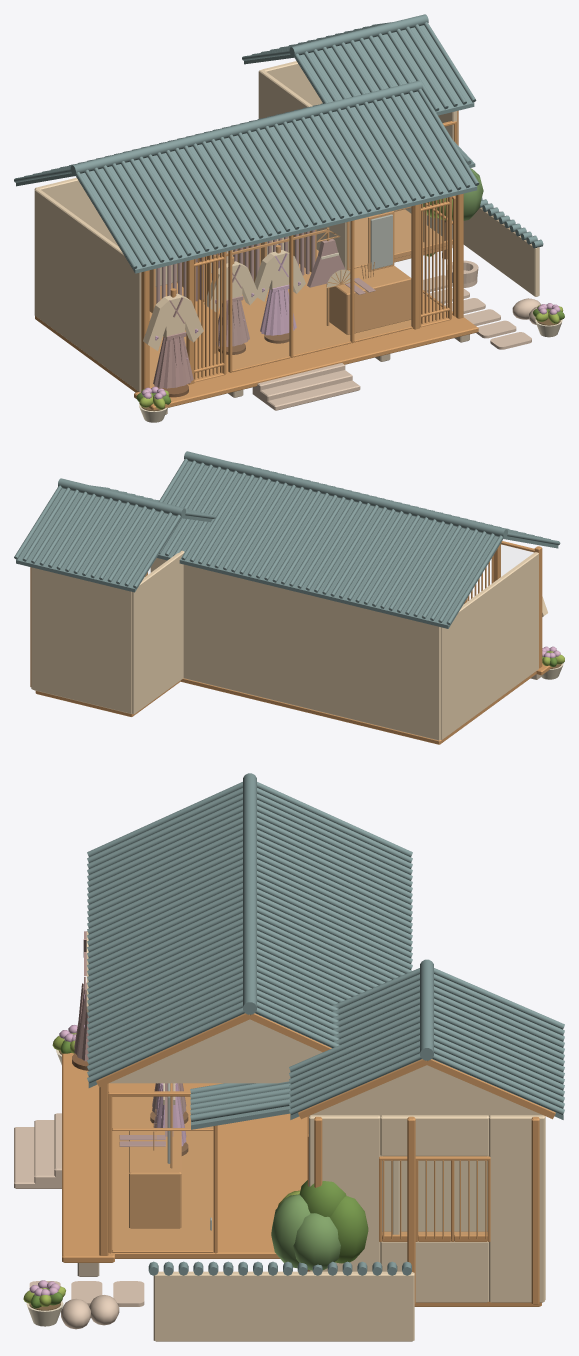
File: 15-B-4acf32bdff2b.glb
3 renders of one model, top to bottom at view 1: azimuth 30°, elevation 25°; view 2: azimuth 150°, elevation 25°; view 3: azimuth 270°, elevation 25°, orthographic. The views are drawn at different scales.
Parts seen in each view (by area): view 1: R 筒瓦, R 连续瓦屋面, A 西墙, S 主厅木地板, S 前木廊, R 屋脊, I 宽袖汉服, A 滑屏细木条, I 镜前配饰柜, A 前廊木柱, L 侧院矮墙, I 汉服长裙 (+19 smaller); view 2: A 主厅后墙, R 筒瓦, R 连续瓦屋面, A 后翼后墙, A 西墙, A 后翼西墙, R 屋脊, S 主厅木地板, A 前廊木柱, S 后翼木地板; view 3: R 筒瓦, S 主厅木地板, L 侧院矮墙, A 后翼东墙段, A 木框山墙填板, S 前木廊, L 乔木 · 枝干与树冠, A 后翼西墙, A 后翼窗下, R 屋脊, I 镜前配饰柜, A 后翼窗上 (+15 smaller).
Boxes of the visible parts, x1,y1,x2,y2 form: R 筒瓦: (14,22,479,269); R 连续瓦屋面: (16,25,477,273); A 西墙: (34,188,141,392); S 主厅木地板: (35,242,454,392); S 前木廊: (134,315,478,410); R 屋脊: (70,14,428,175); I 宽袖汉服: (143,250,305,350); A 滑屏细木条: (194,197,447,379); I 镜前配饰柜: (329,265,411,334); A 前廊木柱: (141,193,463,390); L 侧院矮墙: (463,207,539,296); I 汉服长裙: (153,289,296,388); A 主厅后墙: (150,558,440,740); R 筒瓦: (14,458,560,624); R 连续瓦屋面: (16,461,558,628); A 后翼后墙: (33,568,131,713); A 西墙: (441,552,538,739); A 后翼西墙: (131,550,184,714); R 屋脊: (58,451,507,538); S 主厅木地板: (181,671,536,744); A 前廊木柱: (493,544,542,668); S 后翼木地板: (35,680,180,716); R 筒瓦: (87,782,564,1114); S 主厅木地板: (108,1083,307,1258); L 侧院矮墙: (153,1271,414,1341); A 后翼东墙段: (309,1115,544,1302); A 木框山墙填板: (109,1019,542,1115); S 前木廊: (62,1053,114,1262); L 乔木 · 枝干与树冠: (271,1180,368,1270); A 后翼西墙: (380,1115,489,1231); A 后翼窗下: (380,1241,488,1302); R 屋脊: (243,773,433,1060); I 镜前配饰柜: (129,1131,181,1228); A 后翼窗上: (380,1115,488,1156).
Bounding box in the file's own units: 21.77 × 10.14 × 17.74.
